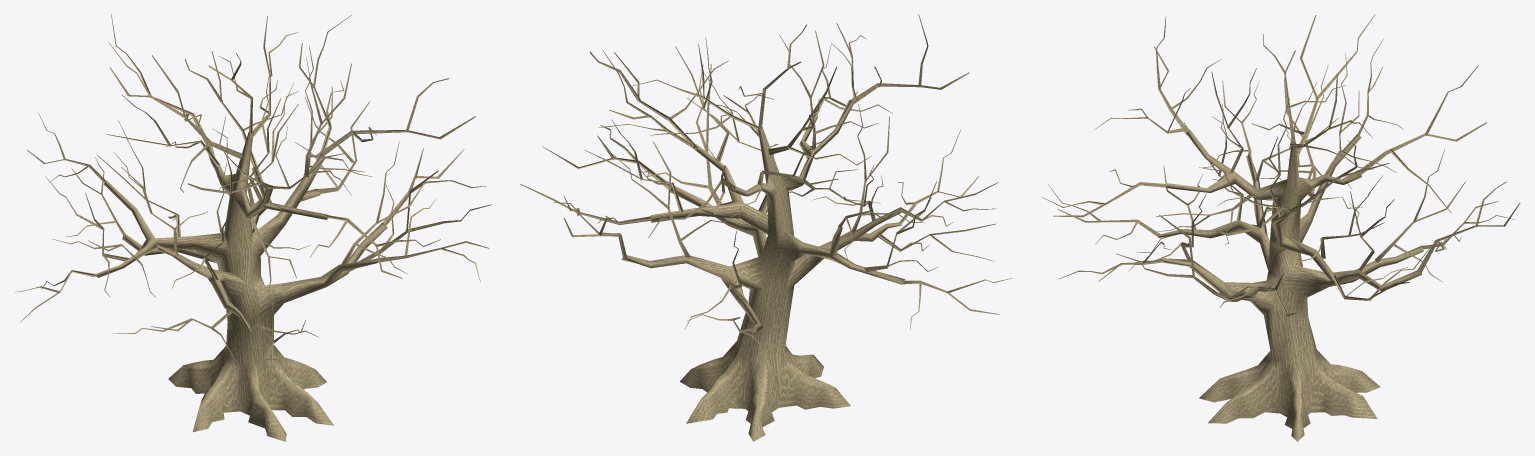
The model's file is INST_HTOWN_TREEB_LOD1.obj.
3 views of the same model, side by side, from view 1: azimuth 30°, elevation 25°; view 2: azimuth 150°, elevation 25°; view 3: azimuth 270°, elevation 25° (orthographic). The views are drawn at different scales.
Visible parts, largest first — view 1: t_TreeB_Lod1_01; view 2: t_TreeB_Lod1_01; view 3: t_TreeB_Lod1_01.
Part boxes in pixels (x1=…): t_TreeB_Lod1_01: x1=15, y1=14, x2=491, y2=441; t_TreeB_Lod1_01: x1=520, y1=14, x2=1012, y2=441; t_TreeB_Lod1_01: x1=1041, y1=14, x2=1520, y2=441.
Bounding box in the file's own units: 1182 × 907 × 1105.
